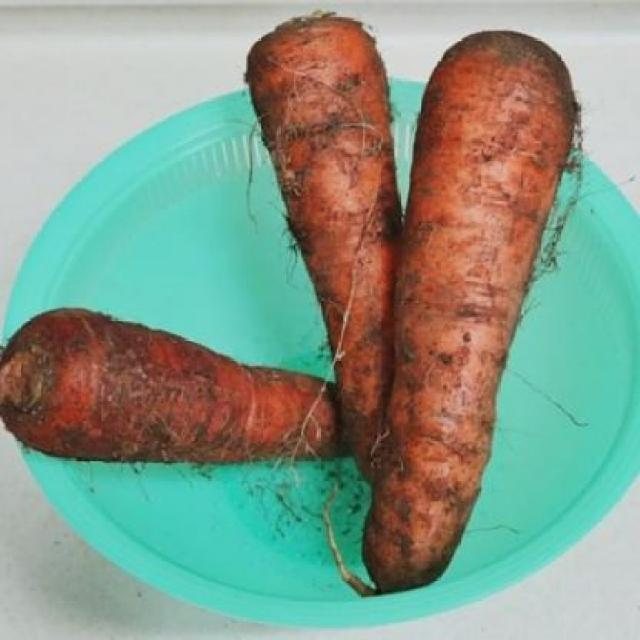carrot: (368, 32, 574, 590), (240, 13, 412, 510), (6, 298, 352, 507)
